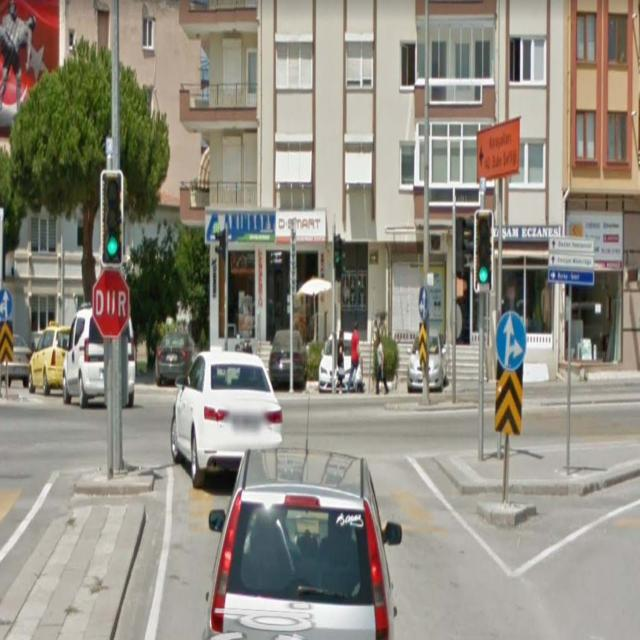dur: (93, 268, 129, 336)
ilerisol: (418, 287, 428, 320), (1, 290, 12, 318)
yesil: (101, 170, 123, 266), (474, 210, 492, 294)
